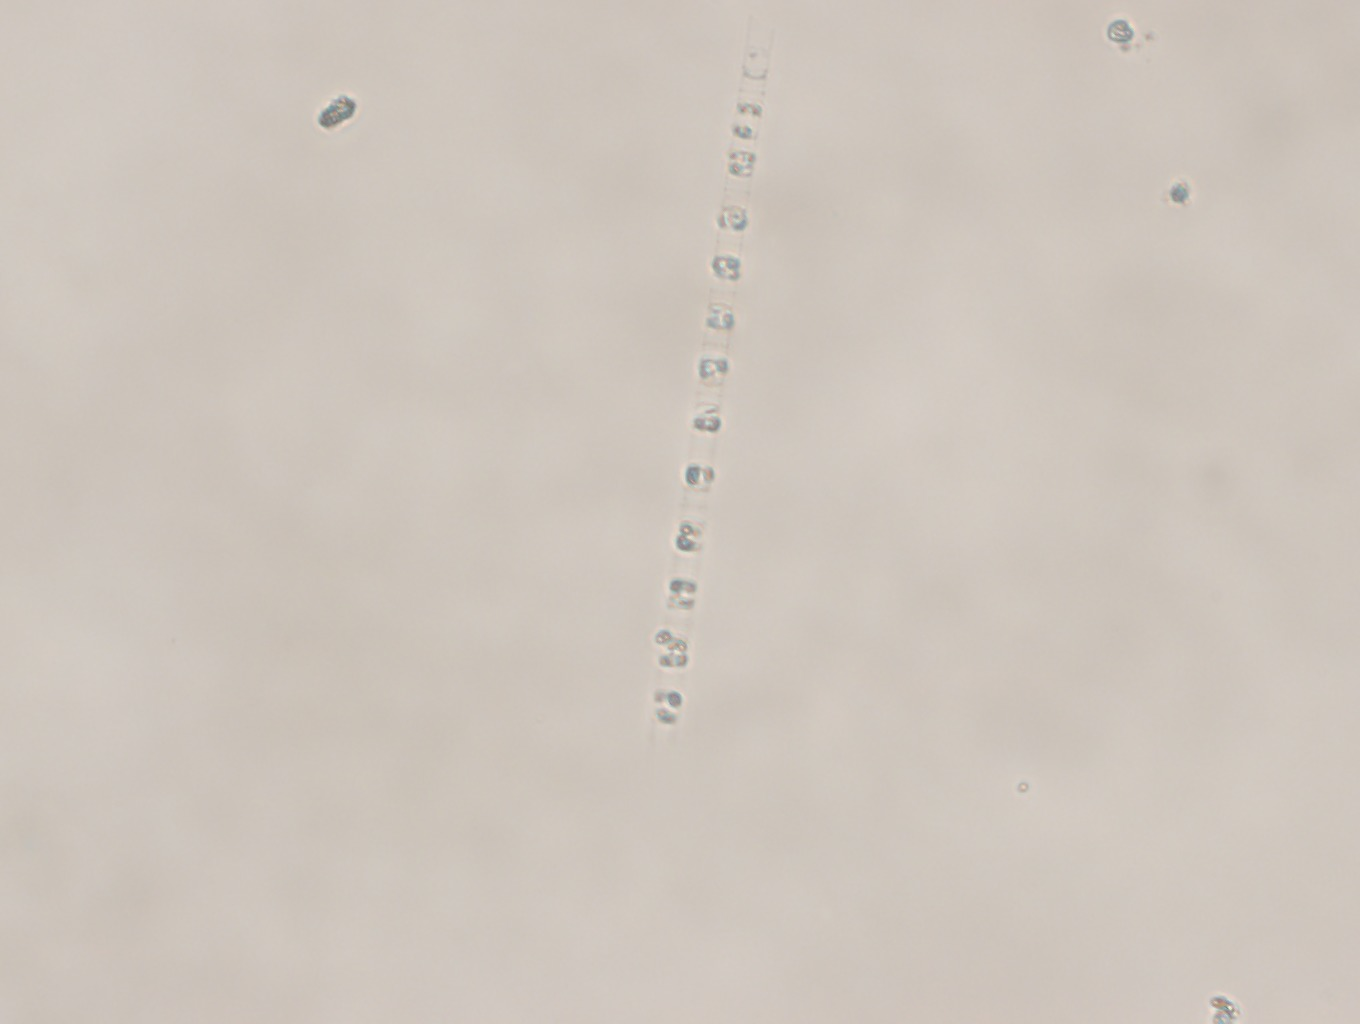skeletonema: (633, 10, 782, 770)
